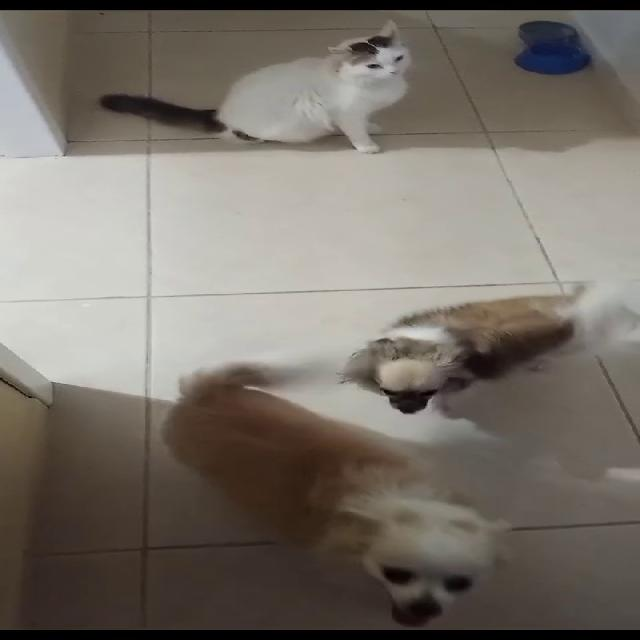Pedrita: (333, 254, 639, 391)
Simba: (146, 14, 478, 164)
Theo: (122, 329, 590, 639)
